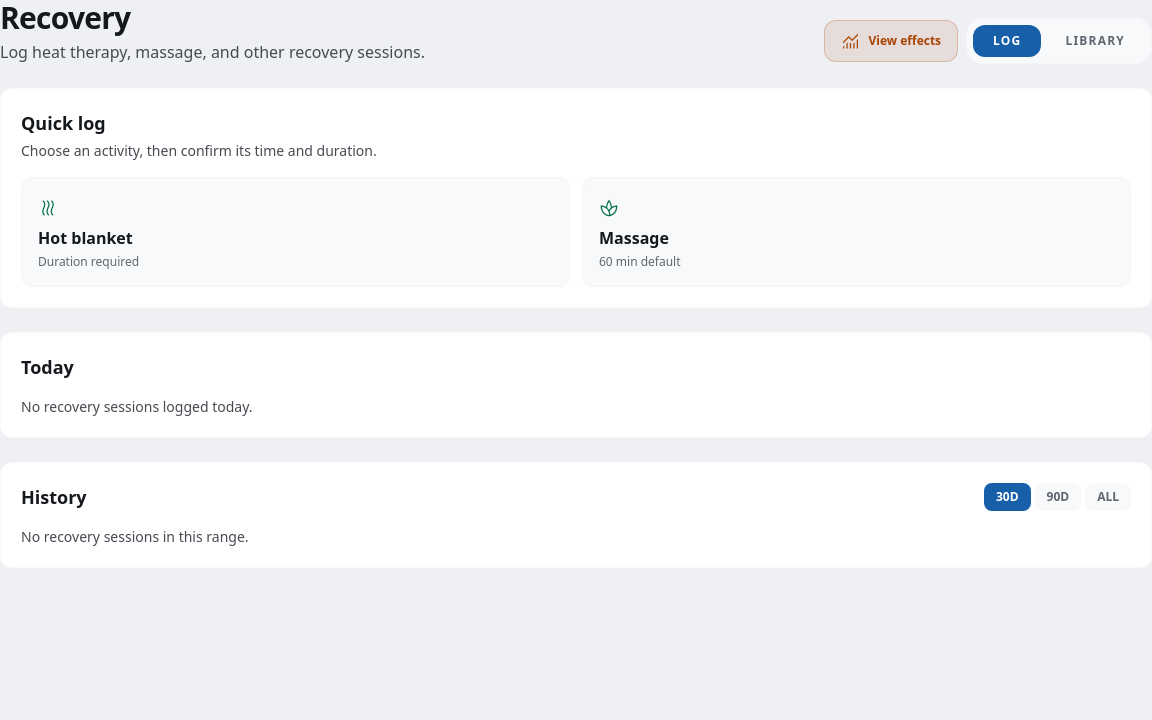
Test: Recovery page › shows activity-specific fields in the quick-log form
Step 1. Click the button with aria-label "quick log hot blanket" → (85, 238), box [21,177,570,287]
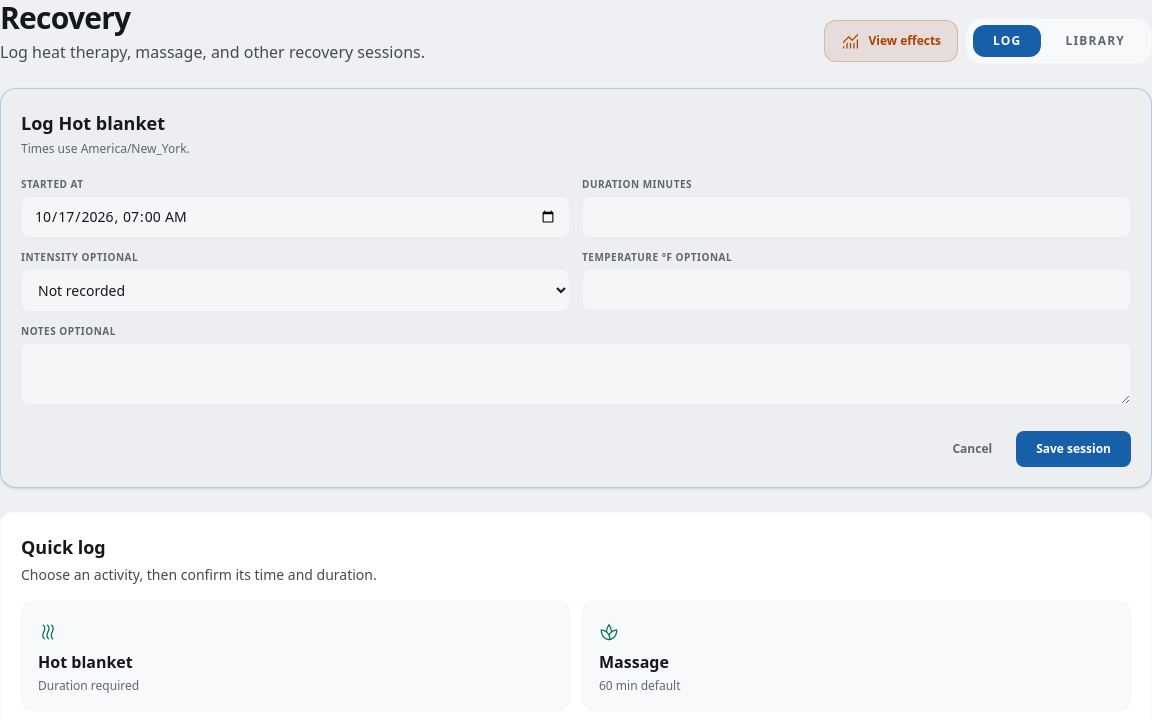
expect the field labelled "massage type" is not shown: met
Step 2. Click the button "Cancel" → (972, 449), box [936,431,1008,467]
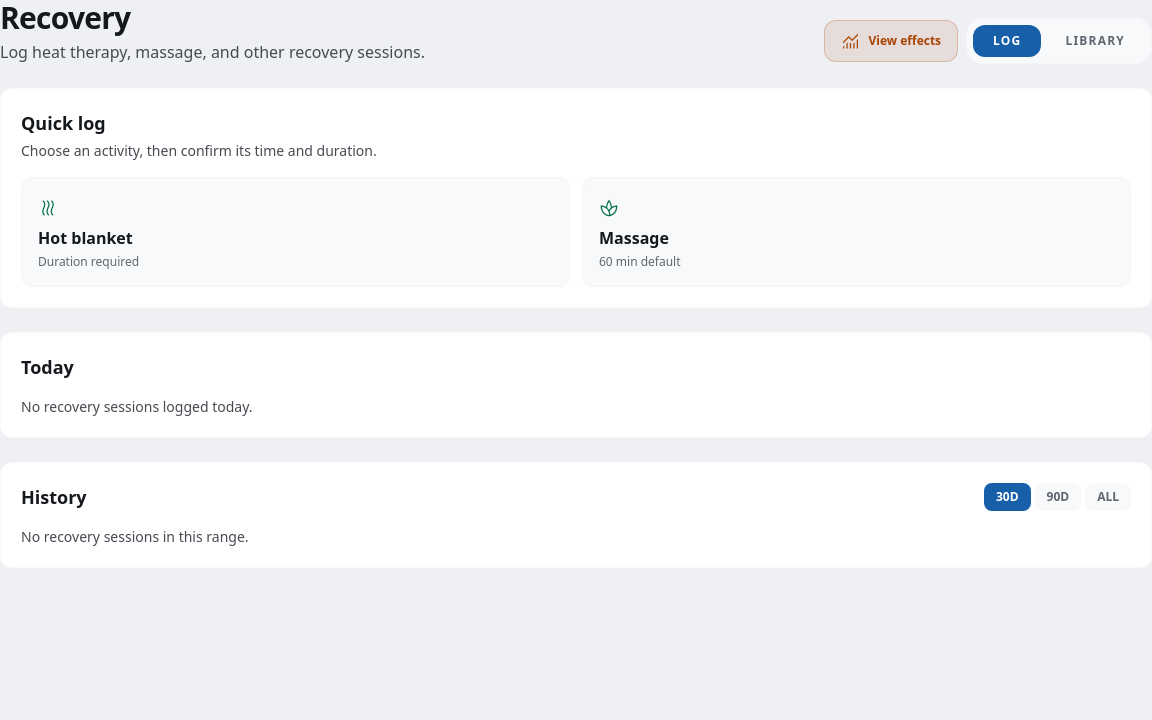
Step 3. Click the button with aria-label "quick log massage" → (634, 238), box [582,177,1131,287]
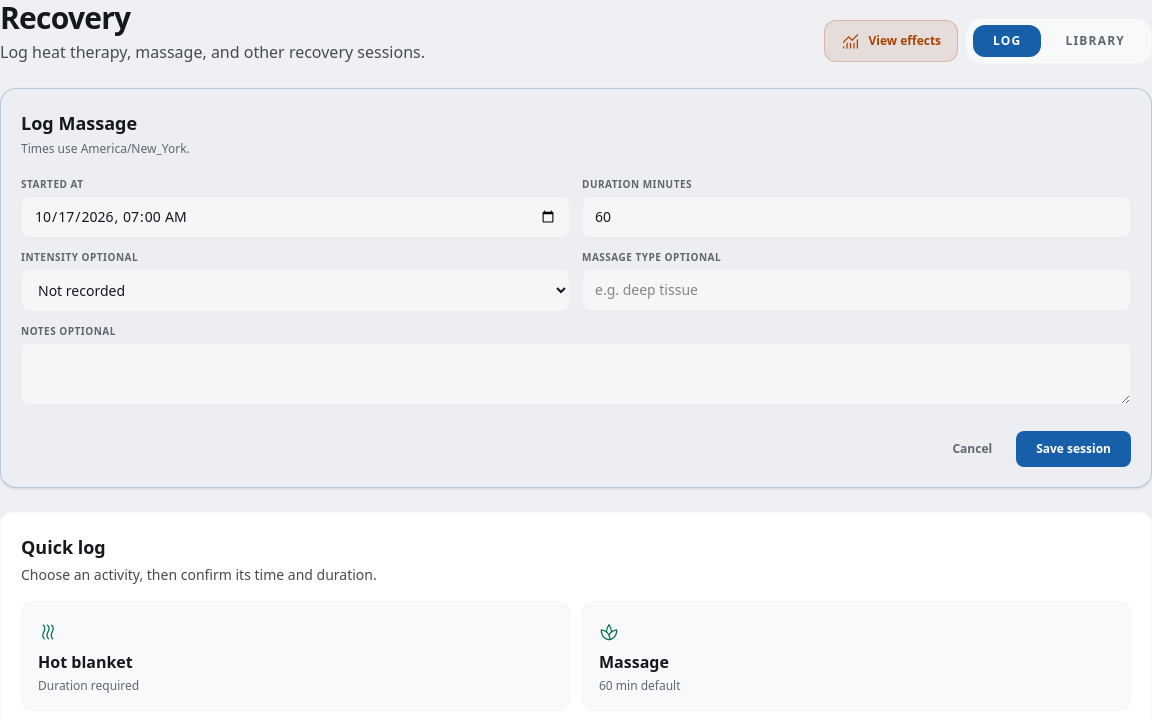
expect the field labelled "Massage type optional" is shown: met, box [582,269,1131,311]
